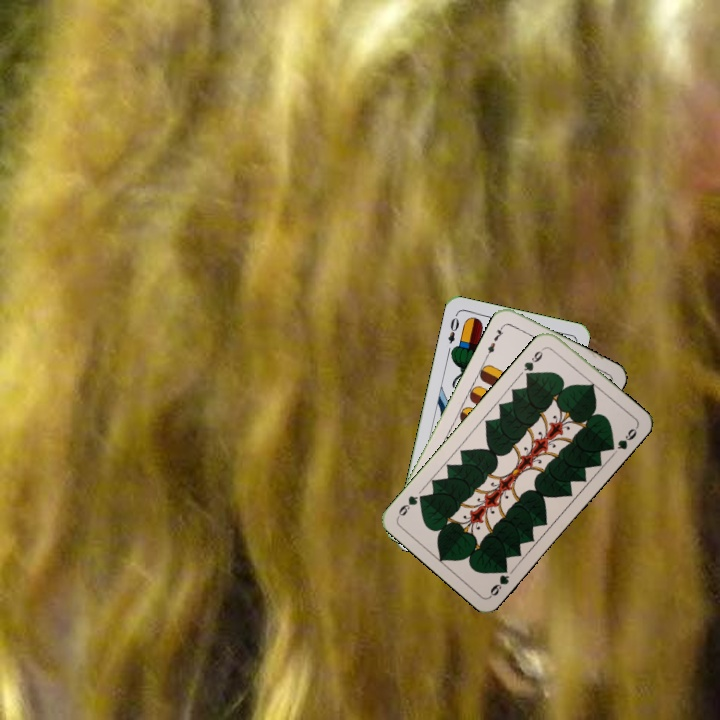E7: (482, 321, 507, 359)
EO: (444, 314, 462, 346)
G9: (519, 343, 548, 380), (486, 561, 512, 599)
